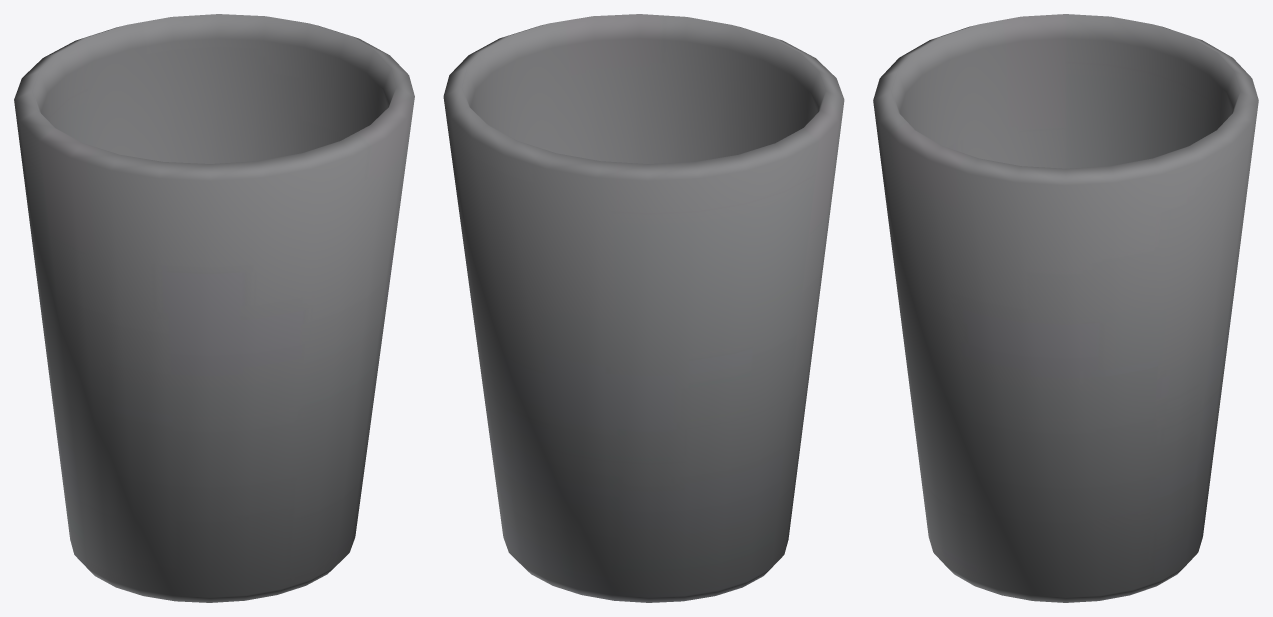
The model's file is Pen Holder.obj.
The picture shows the model from 3 angles, left to right: view 1: azimuth 30°, elevation 25°; view 2: azimuth 150°, elevation 25°; view 3: azimuth 270°, elevation 25°; orthographic projection.
Visible parts, largest first — view 1: Pen Holder.obj; view 2: Pen Holder.obj; view 3: Pen Holder.obj.
Part boxes in pixels (x1=…): Pen Holder.obj: x1=14, y1=14, x2=414, y2=602; Pen Holder.obj: x1=443, y1=14, x2=844, y2=602; Pen Holder.obj: x1=873, y1=14, x2=1258, y2=602.
Bounding box in the file's own units: 2.7 × 3.37 × 2.58.
